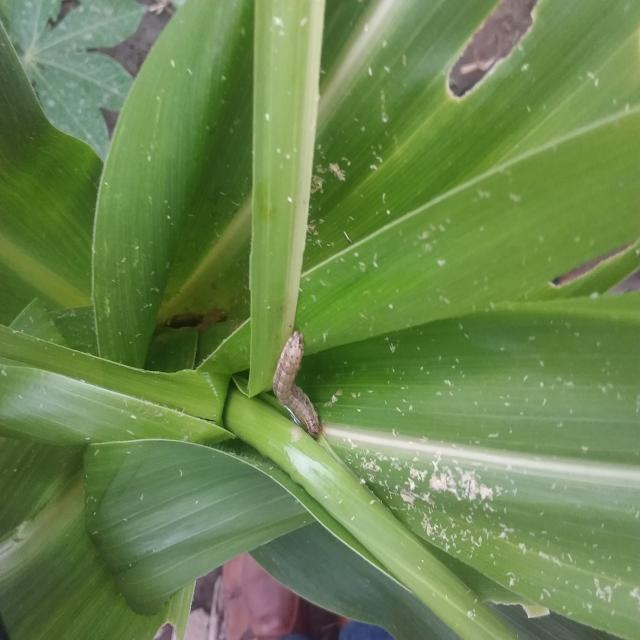yellow-stem-borer-larva: (264, 308, 353, 448)
